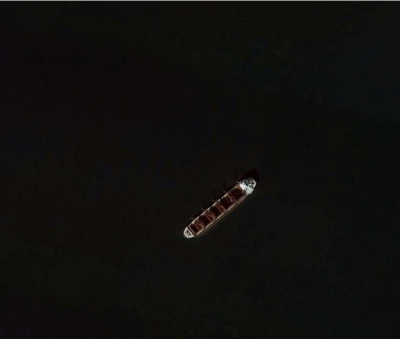boat: (181, 174, 260, 240)
